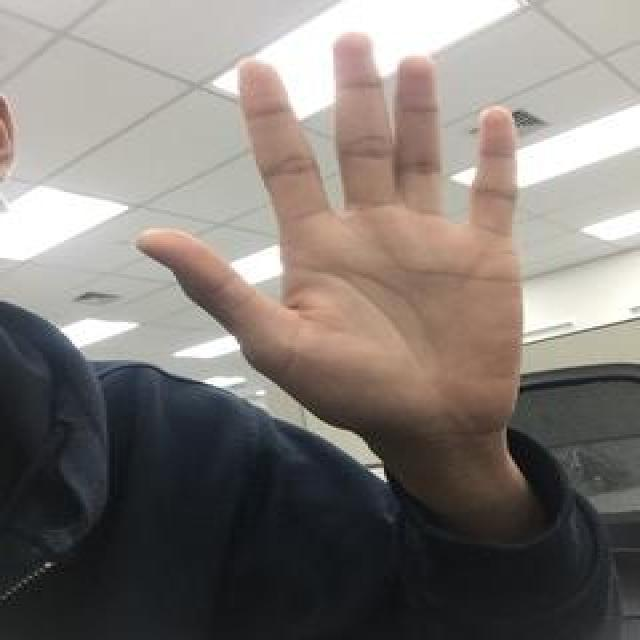hand: (132, 28, 527, 432)
